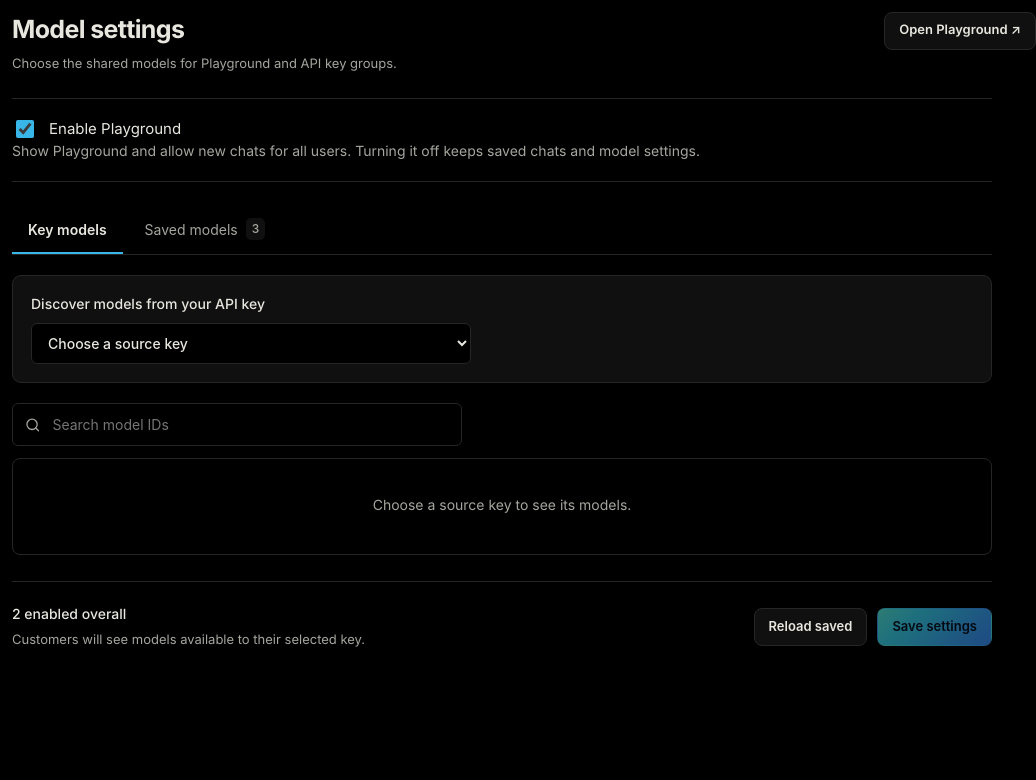
it: admin model settings › preserves pending changes on conflict and resets them after reloading saved settings
The width and height of the screenshot is (1036, 780).
Select "First key" in the dropdown labelled "Discover models from your API key". click: (251, 344)
box: [31,323,471,364]
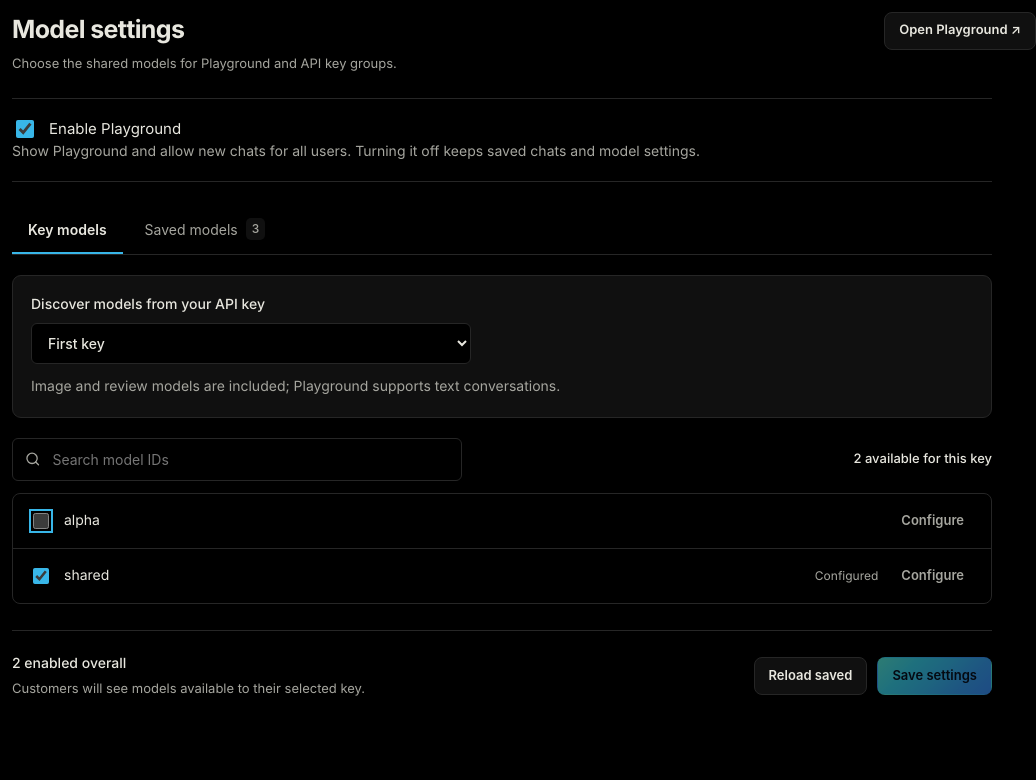
Click the checkbox labelled "alpha". click: click(41, 521)
box: [33,513,49,529]
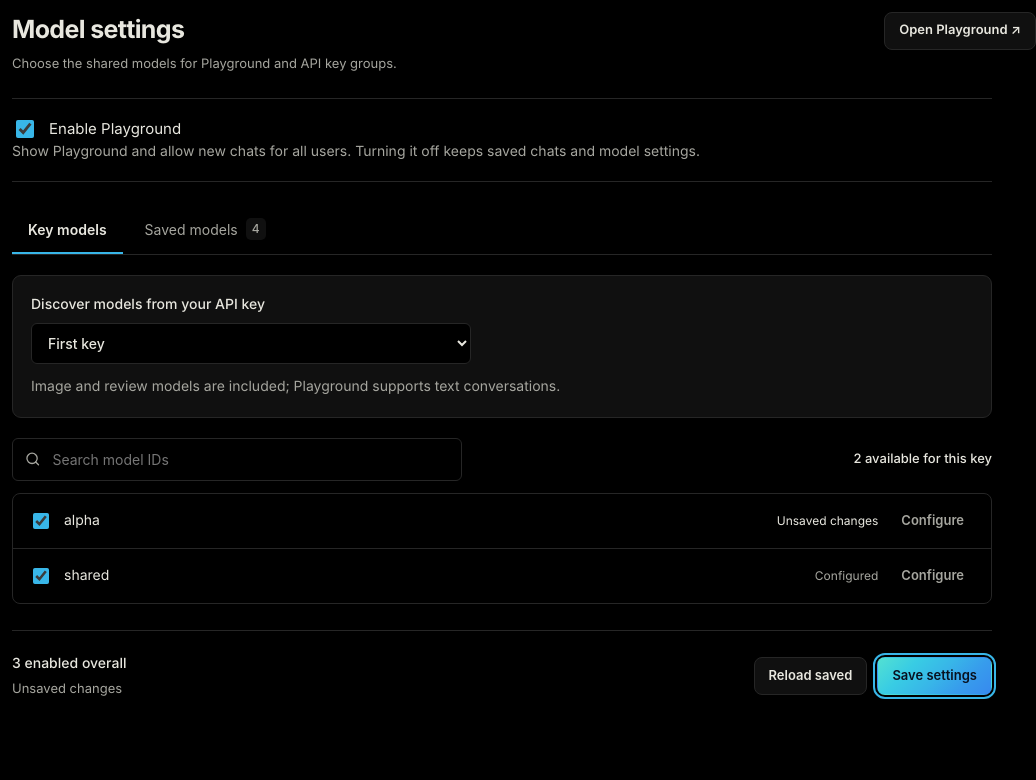
Click the button "Save settings". click: click(935, 676)
box: [877,657,992,695]
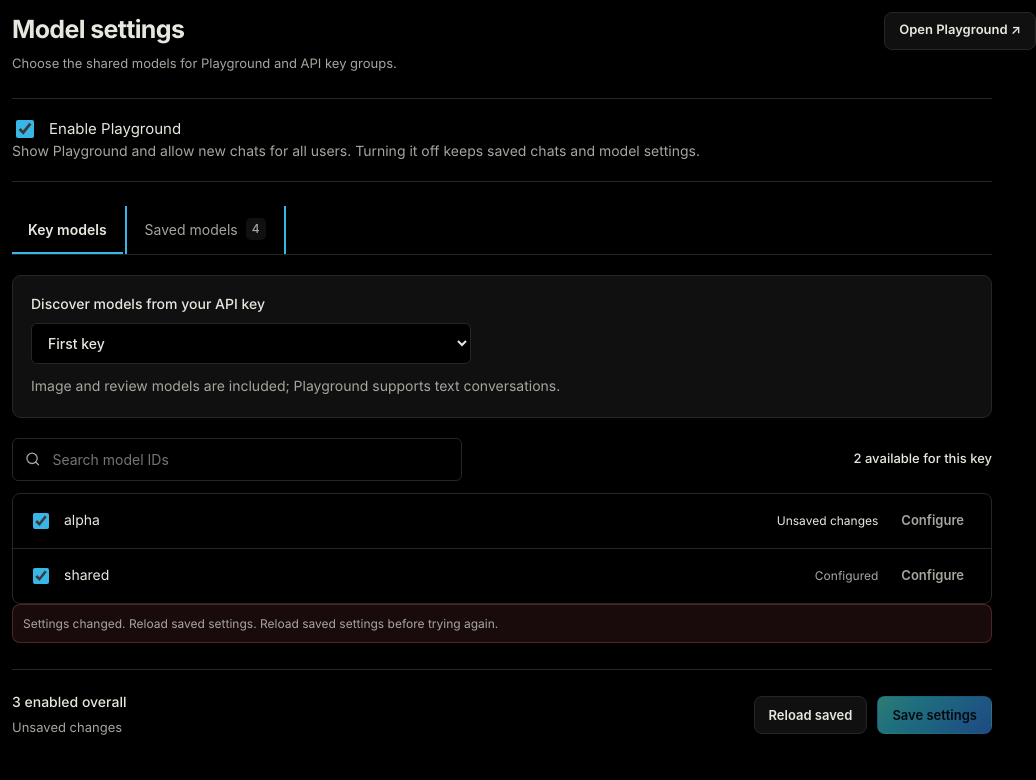
Check: the checkbox labelled "alpha" is checked, box [33,513,49,529]
Check: the button "Save settings" is disabled, box [877,696,992,734]
Check: the text "Reload saved settings" is shown, box [23,616,257,631]
Click the tab "Saved models 4". click: click(205, 230)
box: [129,206,282,254]
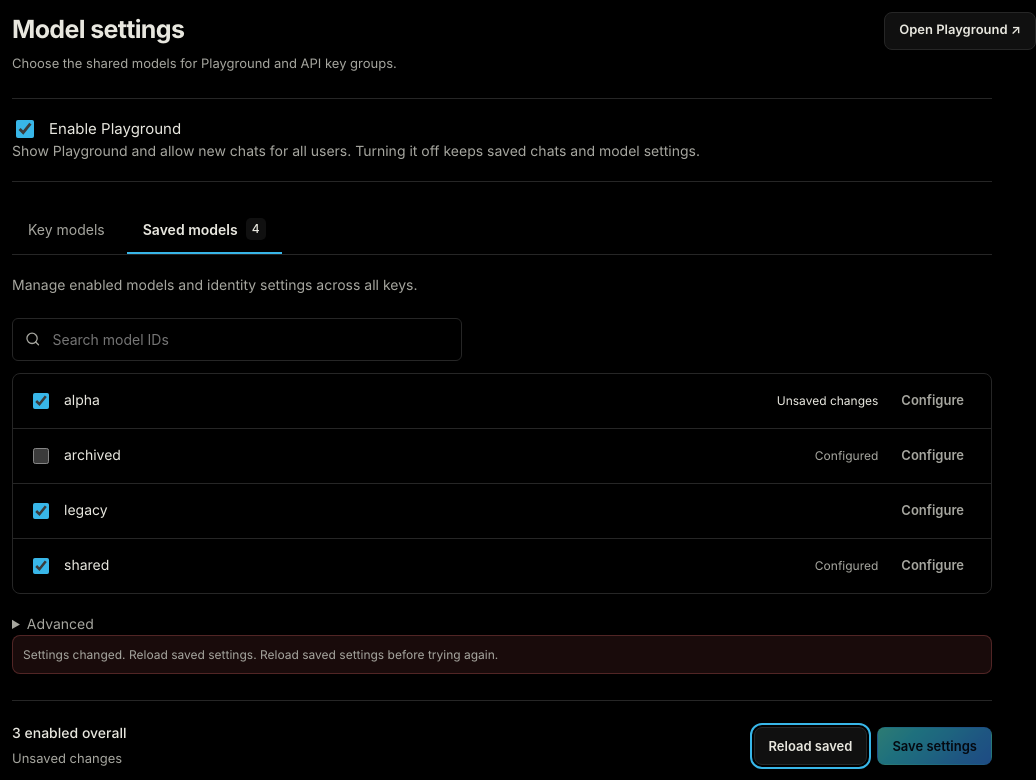
Check: the text "alpha" is shown, box [64,390,100,411]
Click the button "Reload saved". click: click(810, 746)
box: [754,727,867,765]
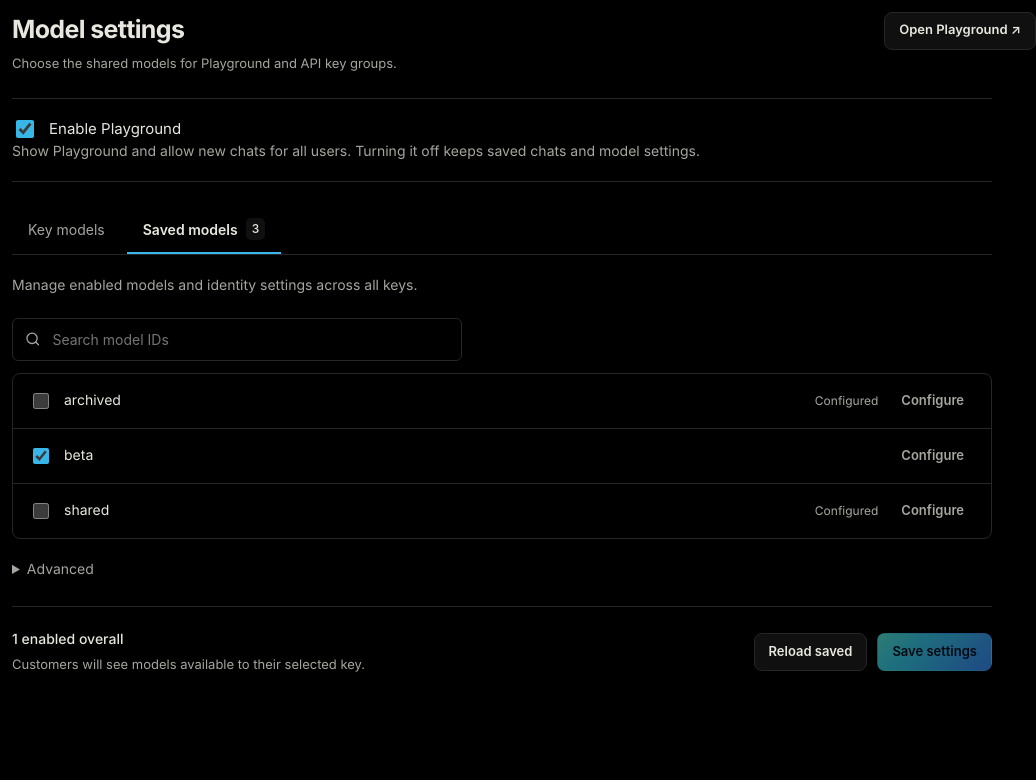
Check: the checkbox labelled "beta" is checked, box [33,448,49,464]
Check: the checkbox labelled "shared" is not checked, box [33,503,49,519]
